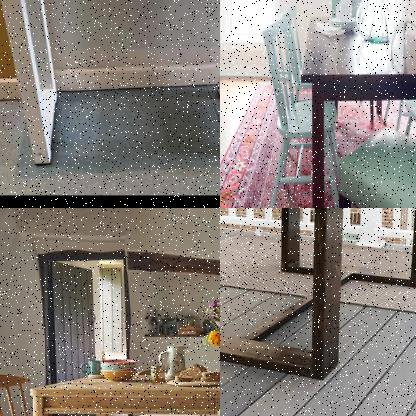table: (0, 0, 219, 170), (220, 208, 415, 381), (294, 11, 415, 207), (30, 358, 219, 415)
